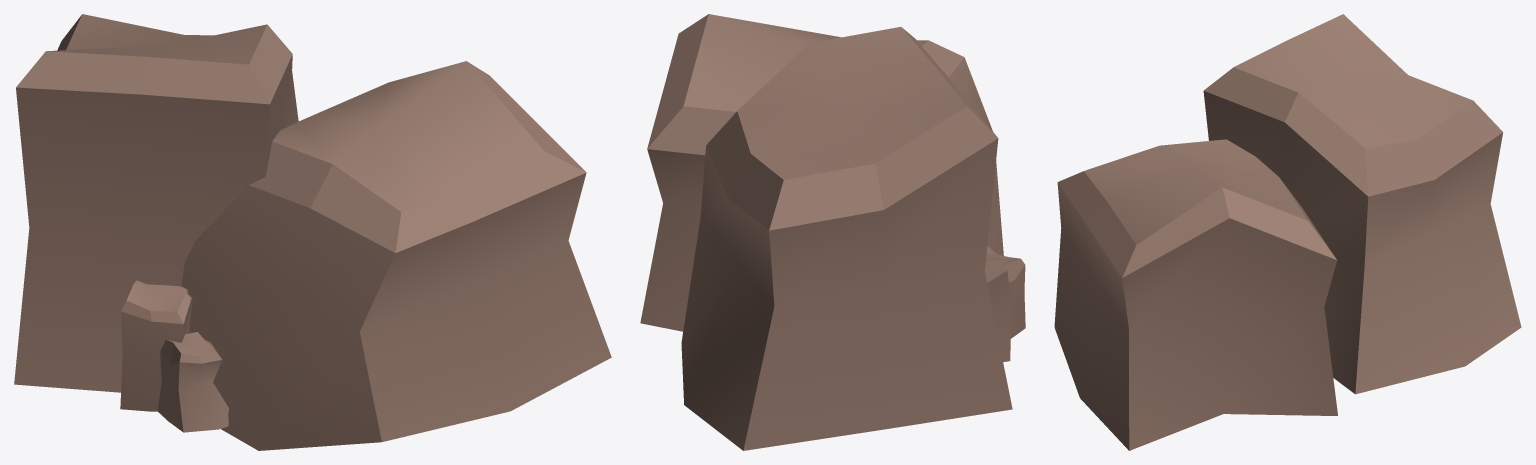
Rendered from rock2_grp.fbx.
The picture shows the model from 3 angles, left to right: view 1: azimuth 30°, elevation 25°; view 2: azimuth 150°, elevation 25°; view 3: azimuth 270°, elevation 25°; orthographic projection. The views are drawn at different scales.
Parts seen in each view (by area): view 1: rock2_grp; view 2: rock2_grp; view 3: rock2_grp.
Boxes of the visible parts, box(x1,y1,x2,y2) form: rock2_grp: box(14, 14, 611, 450); rock2_grp: box(640, 14, 1025, 450); rock2_grp: box(1054, 14, 1521, 450).
Size of the model in its own units: 4.21 by 2.78 by 4.34.
